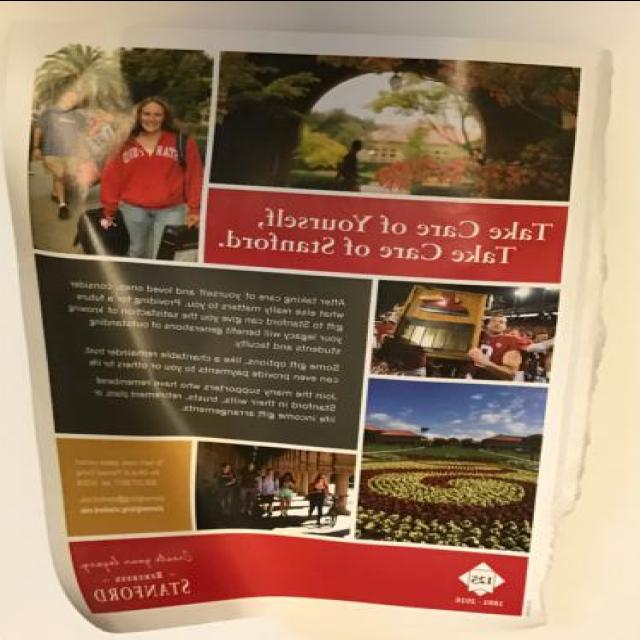kertas: (3, 23, 615, 634)
